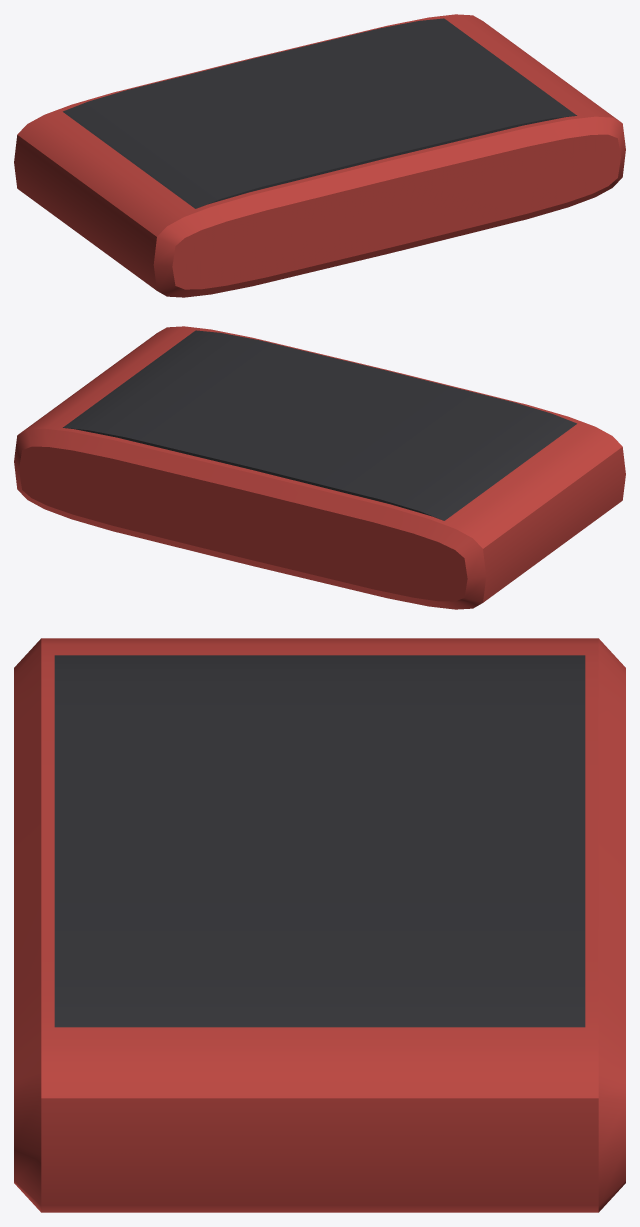
File: lcd.glb
3 renders of one model, top to bottom at view 1: azimuth 30°, elevation 25°; view 2: azimuth 150°, elevation 25°; view 3: azimuth 270°, elevation 25°, orthographic. The views are drawn at different scales.
Parts seen in each view (by area): view 1: lod0; view 2: lod0; view 3: lod0.
Boxes of the visible parts, left/top/right/bottom form: lod0: left=14, top=14, right=625, bottom=297; lod0: left=14, top=326, right=625, bottom=609; lod0: left=14, top=638, right=625, bottom=1212.
Size of what is drawn, in the model's own units: 0.16 by 0.0428 by 0.09.
